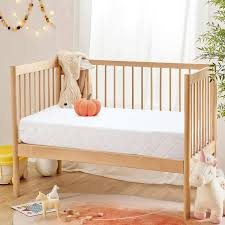bed-matress: (16, 104, 222, 160)
